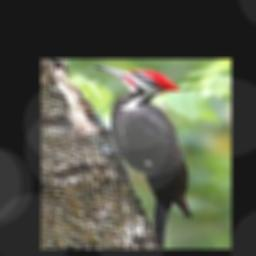Woodpecker: (93, 65, 191, 249)
